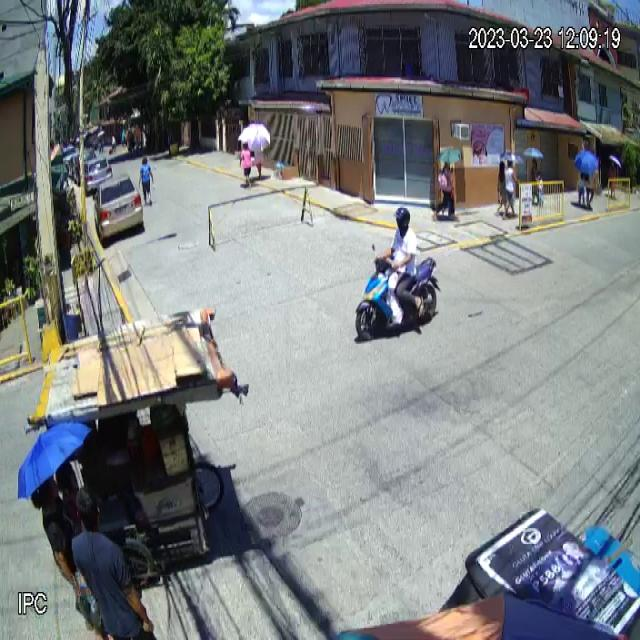Motorcycle: (355, 242, 441, 340)
